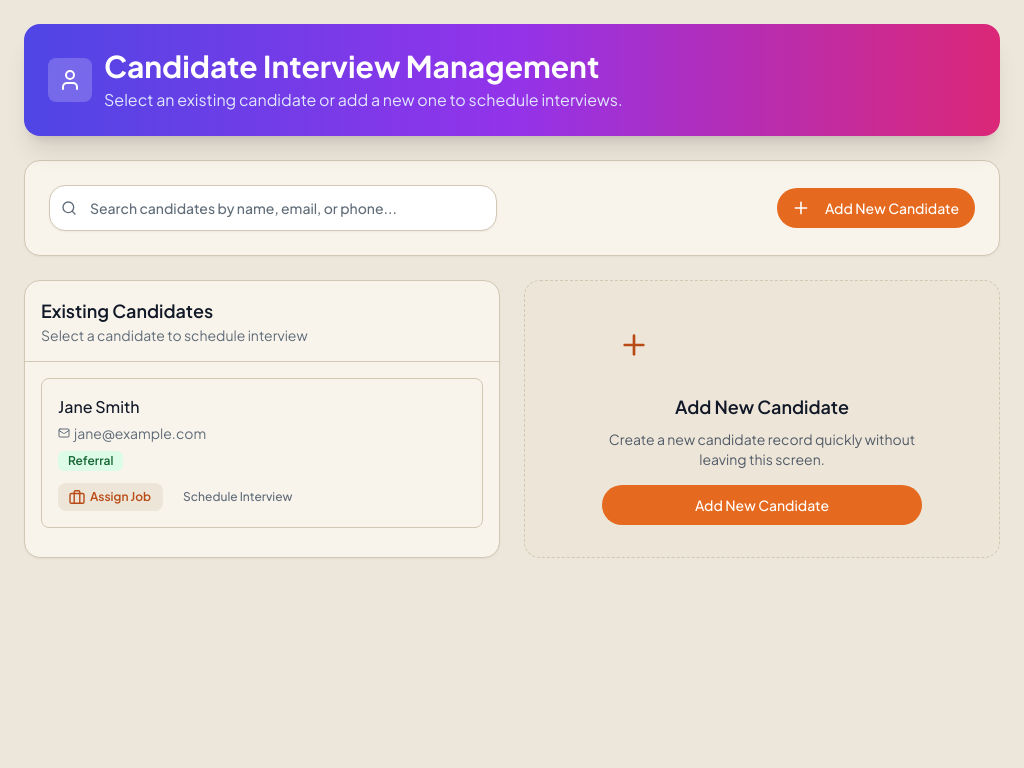
Test: CandidateInterviewScreen › creates a new job from inside the assign job popup and selects it
Expected: the heading "Jane Smith" is shown, [58, 396, 140, 417]
Note: Open the assign job popup
Click the button "Assign Job" at point(111, 497), box [58, 483, 163, 511]
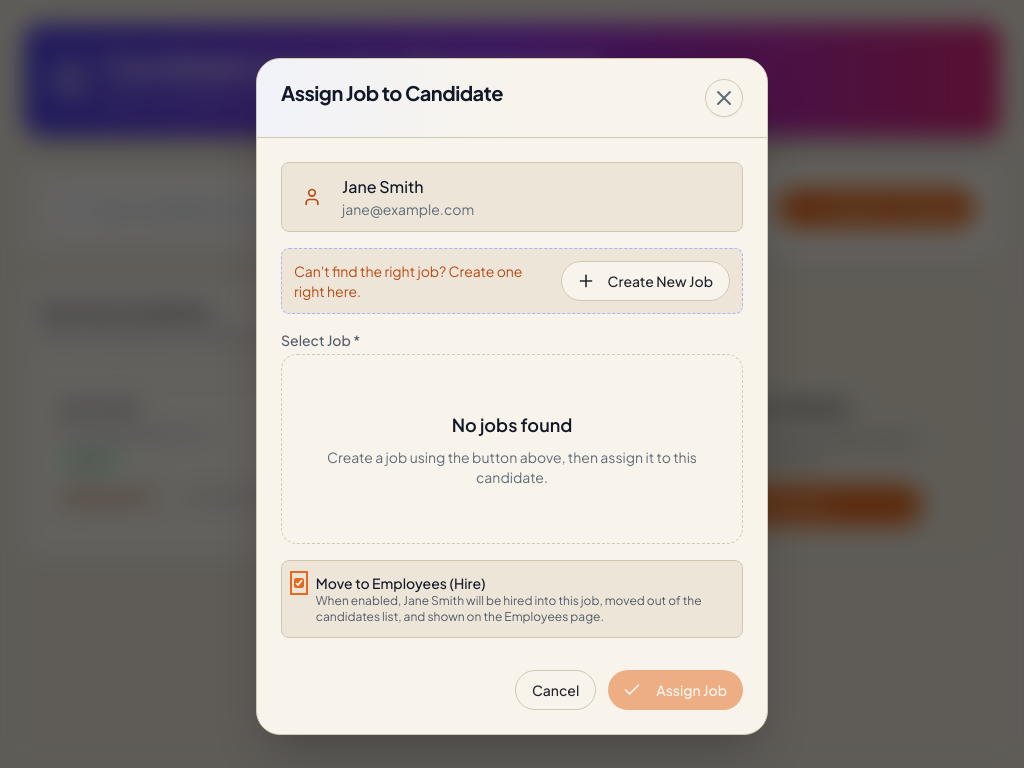
Result: the text "Select Job *" is shown at [281, 330, 360, 348]
Note: Switch to create mode
Click the button "Create New Job" at point(645, 280), box [561, 260, 730, 300]
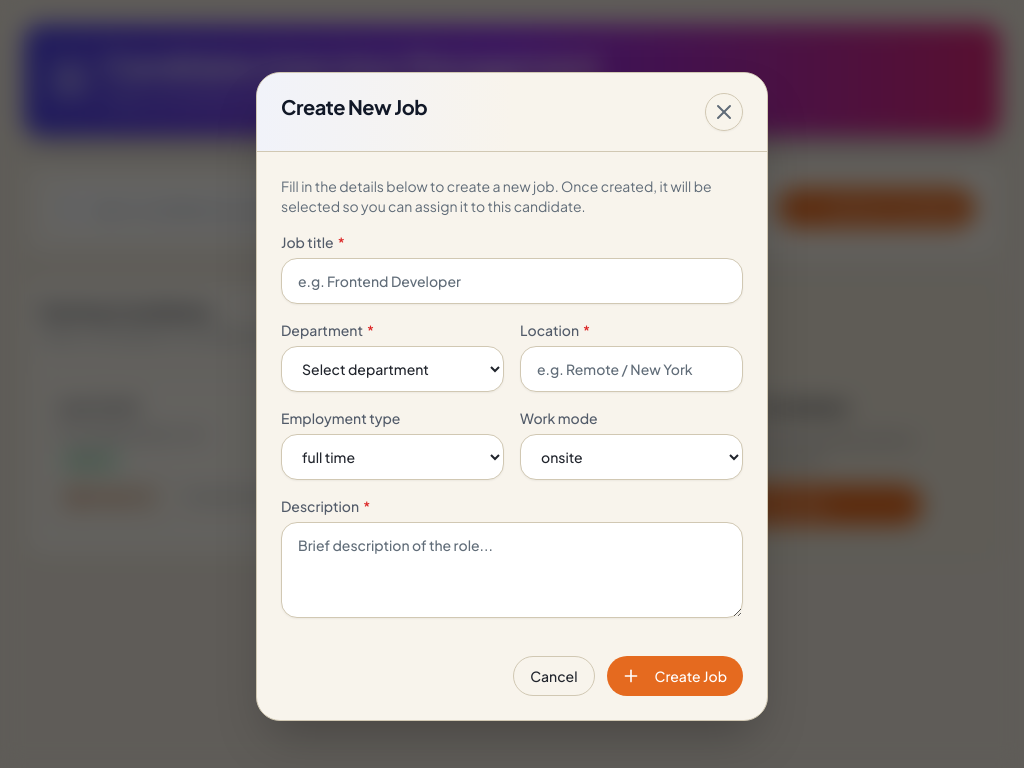
Result: the heading "Create New Job" is shown at [281, 92, 427, 120]
Note: Fill the create form
Type "Product Manager" into the field with placeholder "e.g. Frontend Developer" at point(512, 280), box [281, 258, 743, 304]
Type "Remote" into the field with placeholder "e.g. Remote / New York" at point(632, 368), box [520, 346, 743, 392]
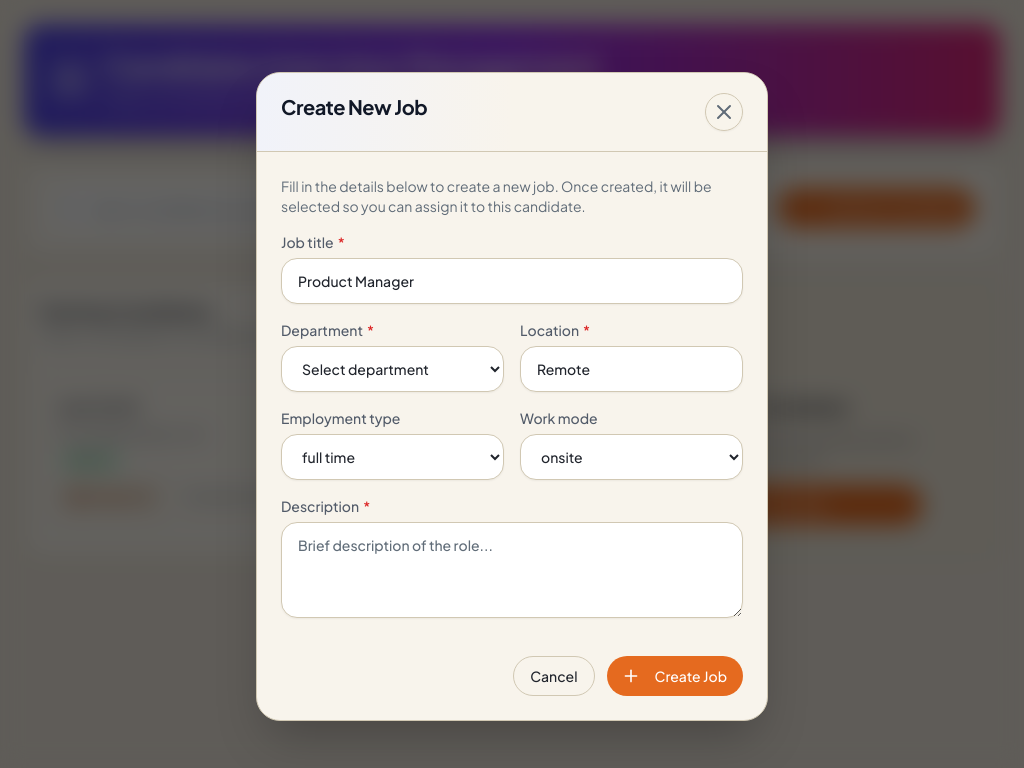
Type "Own the product roadmap and lead discovery." into the text box with placeholder "Brief description of the role..." at point(512, 570), box [281, 522, 743, 618]
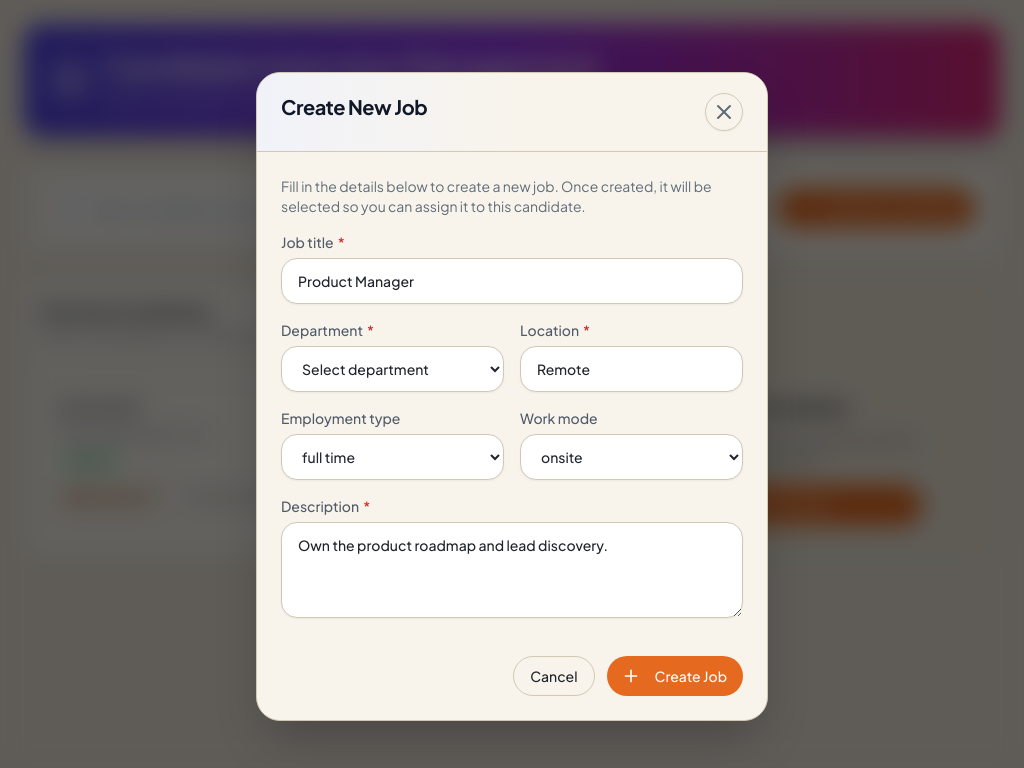
Note: Select department from the create form combobox
Select "Product" in the dropdown labelled "Department*" at point(392, 368), box [281, 346, 504, 392]
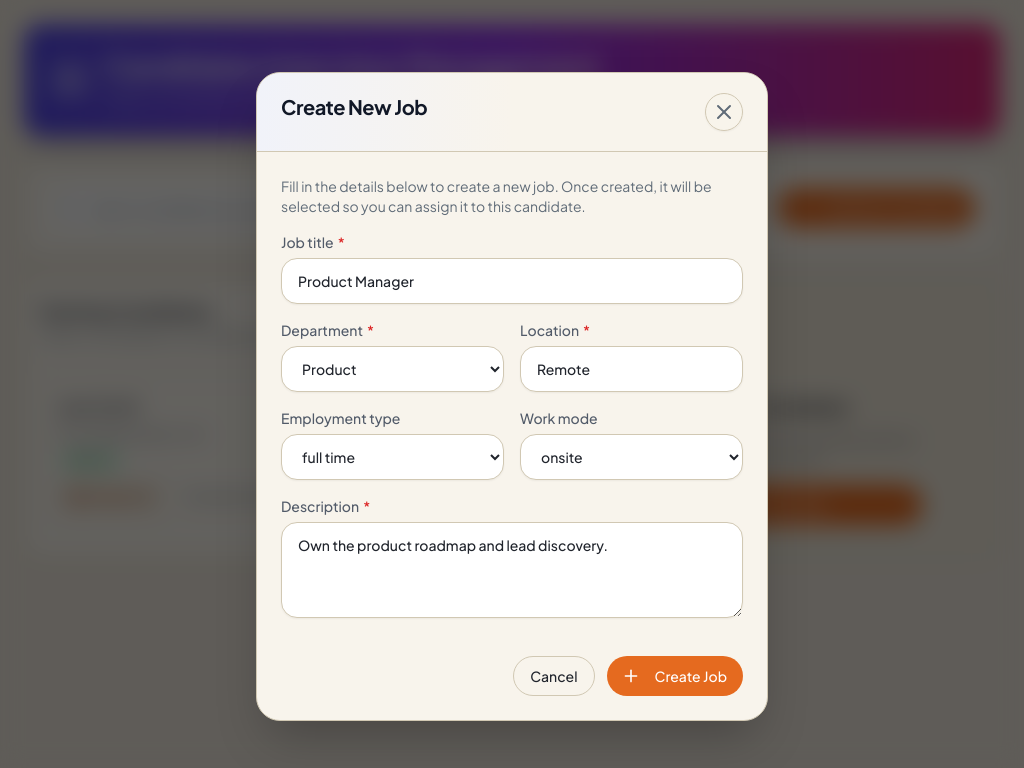
Note: Submit create form
Click the button "Create Job" at point(675, 676), box [606, 656, 743, 696]
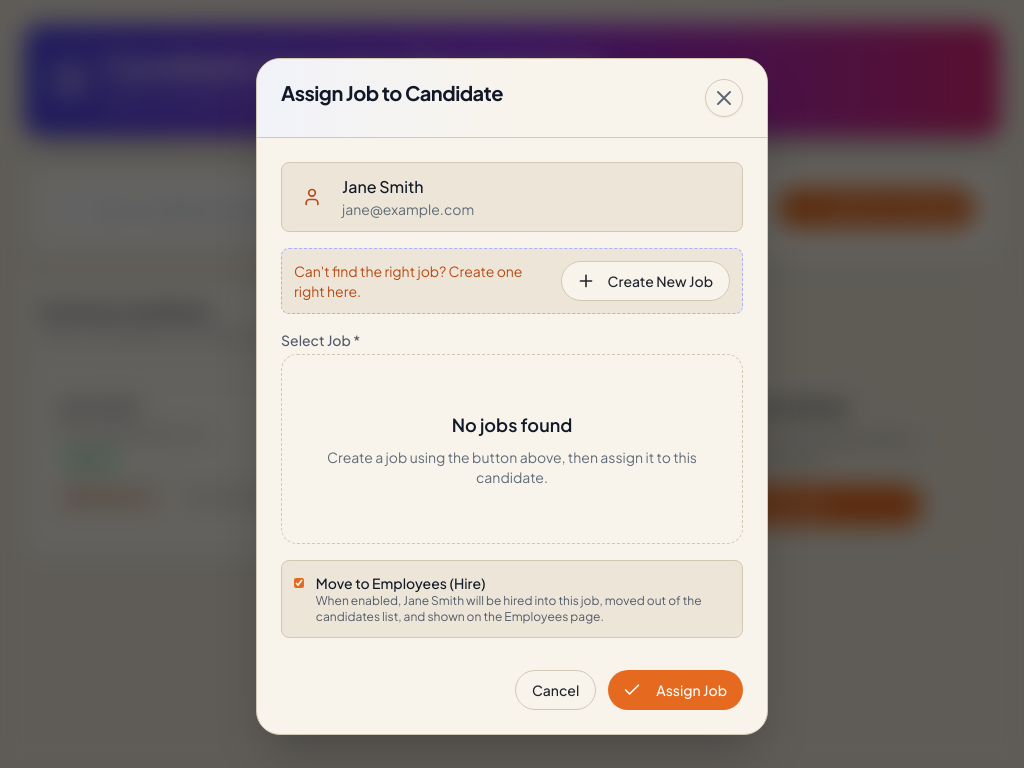
Result: the text "Select Job *" is shown at [281, 330, 360, 348]
